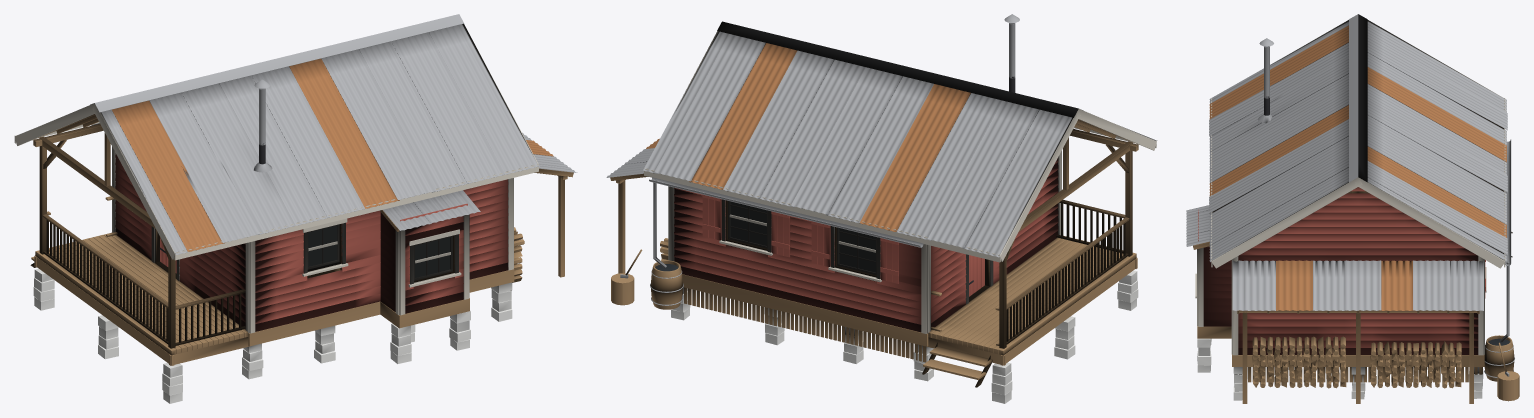
The model's file is cabin.glb.
3 views of the same model, side by side, from view 1: azimuth 30°, elevation 25°; view 2: azimuth 150°, elevation 25°; view 3: azimuth 270°, elevation 25° (orthographic). The views are drawn at different scales.
Visible parts, largest first — view 1: PART; view 2: PART, DOOR; view 3: PART.
Part boxes in pixels (left/top/right/bottom): PART: left=14, top=14, right=577, bottom=403; PART: left=606, top=14, right=1157, bottom=403; DOOR: left=969, top=255, right=984, bottom=296; PART: left=1186, top=14, right=1519, bottom=403.
Size of the model in its own units: 9.5 by 6.27 by 7.21.
